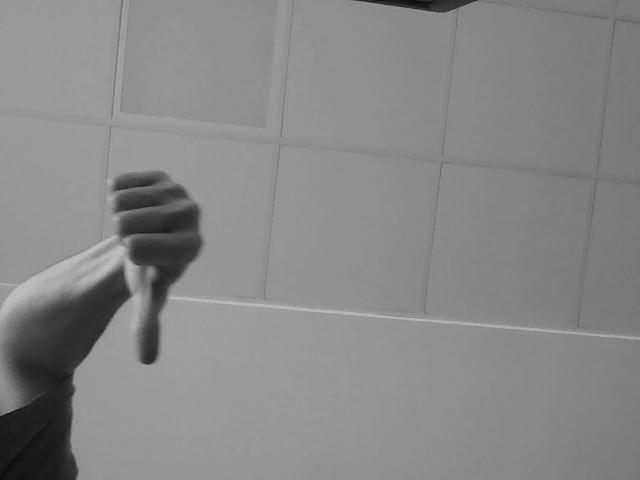bad: (96, 156, 214, 388)
